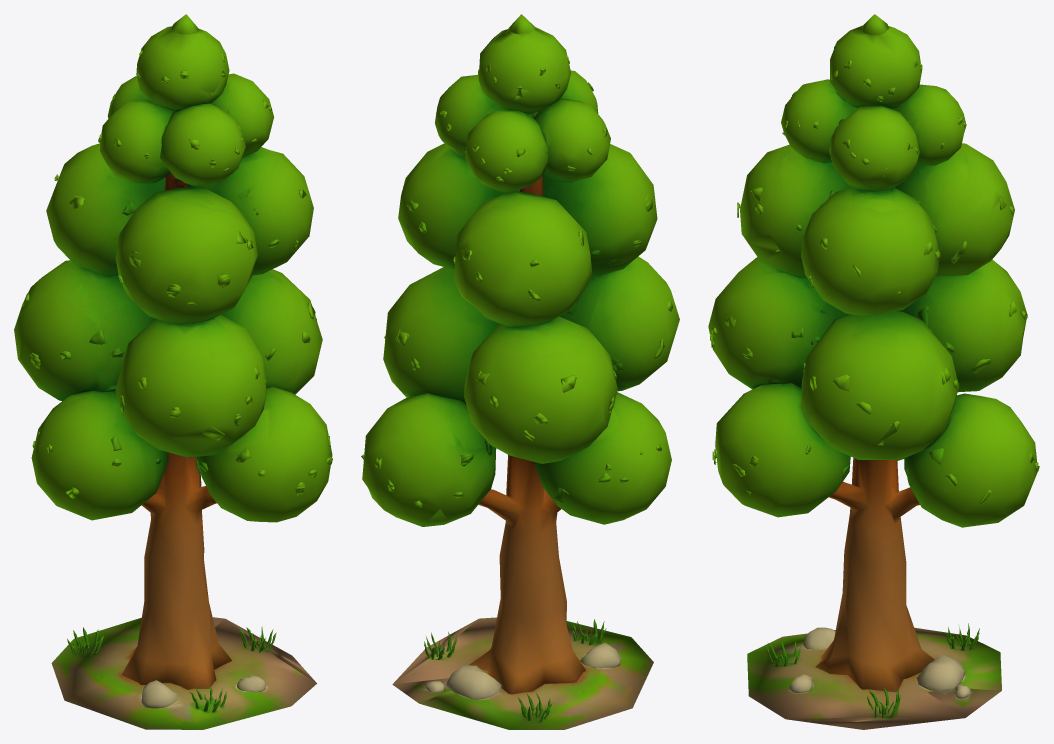
3 views of the same model, side by side, from view 1: azimuth 30°, elevation 25°; view 2: azimuth 150°, elevation 25°; view 3: azimuth 270°, elevation 25° (orthographic).
Visible parts, largest first — view 1: tripo_node_f1a86222-ec87-4085-9bd0-6404b9a209cc; view 2: tripo_node_f1a86222-ec87-4085-9bd0-6404b9a209cc; view 3: tripo_node_f1a86222-ec87-4085-9bd0-6404b9a209cc.
Part boxes in pixels (x1,y1,x2,y2): tripo_node_f1a86222-ec87-4085-9bd0-6404b9a209cc: [14, 14, 332, 729]; tripo_node_f1a86222-ec87-4085-9bd0-6404b9a209cc: [361, 14, 679, 729]; tripo_node_f1a86222-ec87-4085-9bd0-6404b9a209cc: [708, 14, 1039, 729].
Bounding box in the file's own units: 0.5143 × 1.2 × 0.5405.
1 material, 1 textured.
